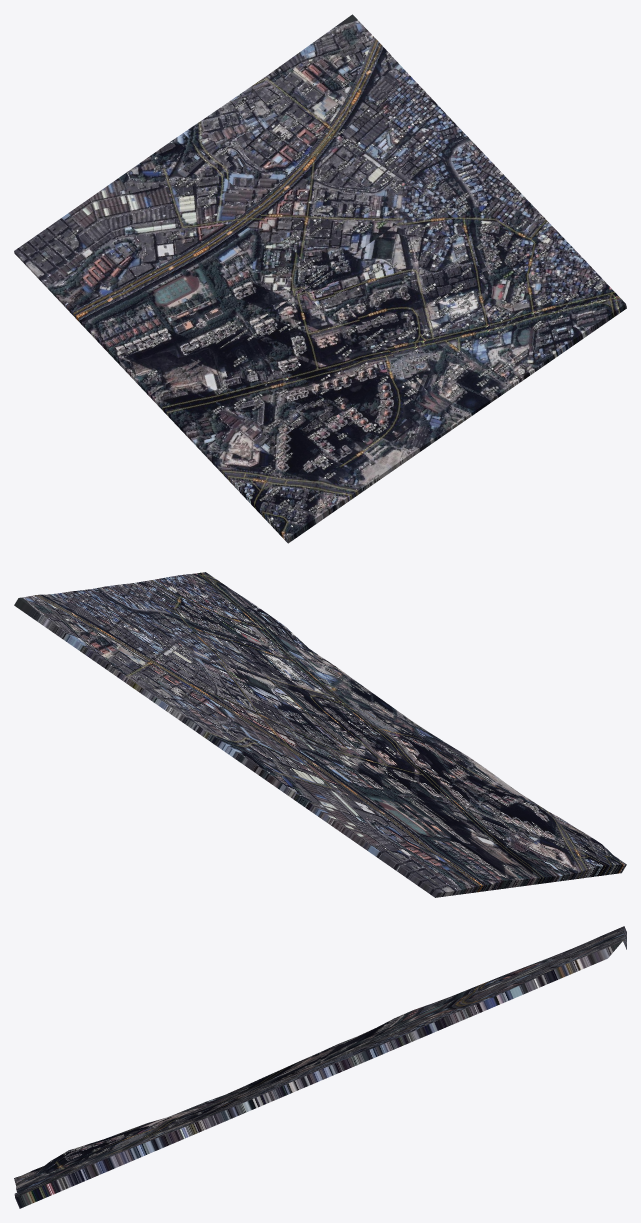
3 views of the same model, one above another, from view 1: azimuth 30°, elevation 25°; view 2: azimuth 150°, elevation 25°; view 3: azimuth 270°, elevation 25° (orthographic). The views are drawn at different scales.
Parts seen in each view (by area): view 1: 1_10_7; view 2: 1_10_7; view 3: 1_10_7.
Boxes of the visible parts, left/top/right/bottom form: 1_10_7: left=14, top=14, right=626, bottom=543; 1_10_7: left=14, top=572, right=626, bottom=897; 1_10_7: left=14, top=926, right=626, bottom=1208.
Size of the model in its own units: 1227 by 899 by 1130.
Materials: 1 (1 with a texture image).
